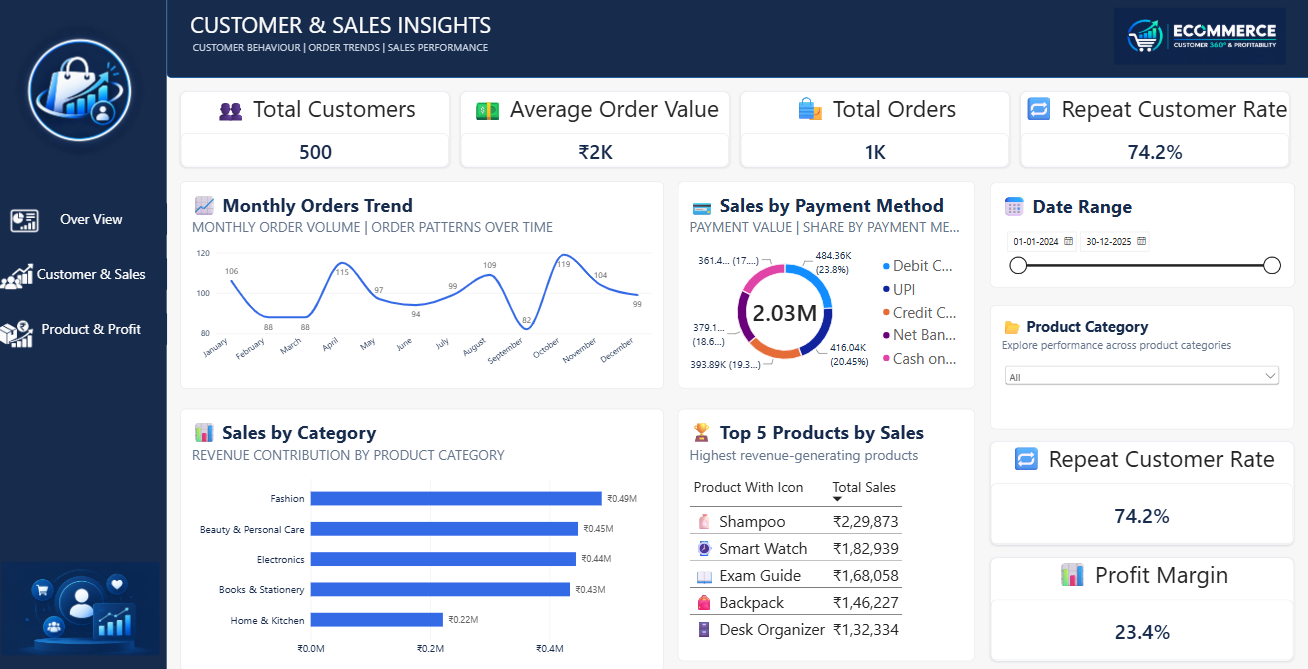

The page's visual inventory and layout, read from the dashboard file:
{"tool":"powerbi","page":{"name":"Customer & Sales Insights","canvas":[1920,1080],"ordinal":1},"visuals":[{"type":"shape","box":[0,0,250,1080],"z":0},{"type":"actionButton","box":[30,300,220,48],"z":1000},{"type":"actionButton","box":[30,380,220,48],"z":2000},{"type":"actionButton","box":[30,460,220,48],"z":3000},{"type":"shape","box":[250,0,1670,120],"z":4000},{"type":"textbox","box":[285,20,900,45],"z":5000},{"type":"textbox","box":[287,65,900,22],"z":7000},{"type":"cardVisual","title":"👥 Total Customers","fields":{"Data":["customers.Total Customers"]},"box":[270,140,390,110],"z":8000},{"type":"cardVisual","title":"💵 Average Order Value","fields":{"Data":["customers.Average Order Value"]},"box":[675,140,390,110],"z":9000},{"type":"cardVisual","title":"🛍️ Total Orders","fields":{"Data":["customers.Total Orders"]},"box":[1080,140,390,110],"z":10000},{"type":"cardVisual","title":"🔁 Repeat Customer Rate","fields":{"Data":["customers.Repeat Customer Rate"]},"box":[1485,140,390,110],"z":11000},{"type":"lineChart","title":"📈 Monthly Orders Trend","fields":{"Category":["orders.order_date.Variation.Date Hierarchy.Year","orders.order_date.Variation.Date Hierarchy.Month"],"Y":["customers.Total Orders"]},"box":[269.6,269.6,700.3,300.4],"z":12000},{"type":"donutChart","title":"💳 Sales by Payment Method","fields":{"Category":["payments.payment_method"],"Y":["Sum(payments.payment_amount_inr)"]},"box":[990,270,430,300],"z":13000},{"type":"clusteredBarChart","title":"📊 Sales by Category","fields":{"Category":["products.category"],"Y":["customers.Total Sales"]},"box":[269.6,599,700.3,380],"z":14000},{"type":"slicer","title":"📅 Date Range","fields":{"Values":["orders.order_date"]},"box":[1442.9,271.7,440.5,152.3],"z":15000},{"type":"slicer","title":"📂 Product Category","fields":{"Values":["products.category"]},"box":[1442.9,448.7,440,180],"z":16000},{"type":"cardVisual","title":"📊 Profit Margin","fields":{"Data":["products.Profit Margin %"]},"box":[1442.3,814.3,440,150.2],"z":17000},{"type":"cardVisual","title":"🔁 Repeat Customer Rate","fields":{"Data":["customers.Repeat Customer Rate"]},"box":[1442.3,646,439.7,150.2],"z":18000},{"type":"tableEx","title":"🏆 Top 5 Products by Sales","fields":{"Values":["products.Product With Icon","customers.Total Sales"]},"box":[989.9,599,430.7,365.6],"z":19000},{"type":"image","box":[1622,0,249.1,119.4],"z":19001},{"type":"image","box":[0,26.8,249.1,226.4],"z":19002},{"type":"image","box":[10.3,738.9,228.5,300.5],"z":19003},{"type":"image","box":[1.8,300.4,85.1,48.9],"z":19004},{"type":"image","box":[1.8,407.2,57.9,164.7],"z":19005},{"type":"image","box":[0,381.8,59.7,48.9],"z":19006}]}

Visuals, with their boxes on the page's 1920x1080 design canvas (x1, y1, x2, y2). These are canvas units, not pixel positions in the 1308x669 screenshot, which may show the page scaled, cropped or inside an application window:
shape: (0,0,250,1080)
actionButton: (30,300,250,348)
actionButton: (30,380,250,428)
actionButton: (30,460,250,508)
shape: (250,0,1920,120)
textbox: (285,20,1185,65)
textbox: (287,65,1187,87)
"👥 Total Customers" cardVisual: (270,140,660,250)
"💵 Average Order Value" cardVisual: (675,140,1065,250)
"🛍️ Total Orders" cardVisual: (1080,140,1470,250)
"🔁 Repeat Customer Rate" cardVisual: (1485,140,1875,250)
"📈 Monthly Orders Trend" lineChart: (270,270,970,570)
"💳 Sales by Payment Method" donutChart: (990,270,1420,570)
"📊 Sales by Category" clusteredBarChart: (270,599,970,979)
"📅 Date Range" slicer: (1443,272,1883,424)
"📂 Product Category" slicer: (1443,449,1883,629)
"📊 Profit Margin" cardVisual: (1442,814,1882,964)
"🔁 Repeat Customer Rate" cardVisual: (1442,646,1882,796)
"🏆 Top 5 Products by Sales" tableEx: (990,599,1421,965)
image: (1622,0,1871,119)
image: (0,27,249,253)
image: (10,739,239,1039)
image: (2,300,87,349)
image: (2,407,60,572)
image: (0,382,60,431)
